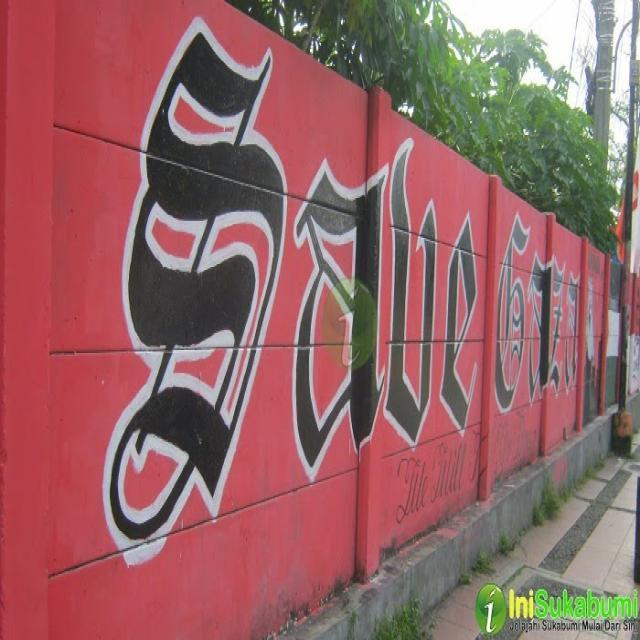-: (105, 16, 288, 562), (298, 134, 478, 483), (496, 213, 578, 410), (586, 272, 638, 402)
